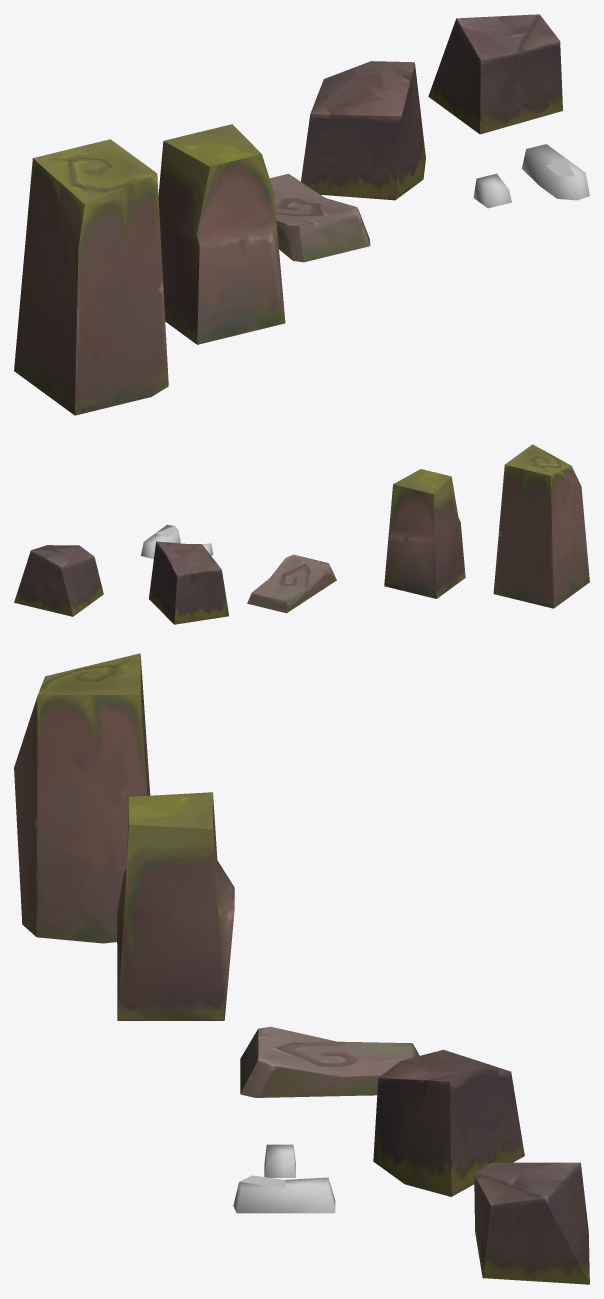
File: TYJ_ShiTouM_001.fbx
The picture shows the model from 3 angles, top to bottom: view 1: azimuth 30°, elevation 25°; view 2: azimuth 150°, elevation 25°; view 3: azimuth 270°, elevation 25°; orthographic projection. The views are drawn at different scales.
Visible parts, largest first — view 1: TYJ_ShiTouM_10, TYJ_ShiTouM_09, TYJ_ShiTouM_07, TYJ_ShiTouM_06, TYJ_ShiTouM_08, TYJ_ShiTouM_04, TYJ_ShiTouM_03; view 2: TYJ_ShiTouM_10, TYJ_ShiTouM_09, TYJ_ShiTouM_07, TYJ_ShiTouM_06, TYJ_ShiTouM_08, TYJ_ShiTouM_04; view 3: TYJ_ShiTouM_10, TYJ_ShiTouM_09, TYJ_ShiTouM_07, TYJ_ShiTouM_06, TYJ_ShiTouM_08, TYJ_ShiTouM_04, TYJ_ShiTouM_03.
Part boxes in pixels (x1,y1,x2,y2): TYJ_ShiTouM_10: [14, 139, 168, 415]; TYJ_ShiTouM_09: [158, 124, 285, 344]; TYJ_ShiTouM_07: [301, 61, 425, 200]; TYJ_ShiTouM_06: [428, 14, 562, 134]; TYJ_ShiTouM_08: [269, 173, 370, 262]; TYJ_ShiTouM_04: [522, 144, 589, 200]; TYJ_ShiTouM_03: [473, 173, 511, 208]; TYJ_ShiTouM_10: [493, 444, 589, 608]; TYJ_ShiTouM_09: [384, 469, 465, 598]; TYJ_ShiTouM_07: [149, 541, 228, 624]; TYJ_ShiTouM_06: [14, 545, 103, 616]; TYJ_ShiTouM_08: [247, 554, 336, 613]; TYJ_ShiTouM_04: [141, 524, 180, 558]; TYJ_ShiTouM_10: [14, 653, 150, 943]; TYJ_ShiTouM_09: [117, 792, 234, 1020]; TYJ_ShiTouM_07: [373, 1049, 524, 1196]; TYJ_ShiTouM_06: [474, 1162, 589, 1284]; TYJ_ShiTouM_08: [240, 1026, 419, 1097]; TYJ_ShiTouM_04: [233, 1175, 335, 1213]; TYJ_ShiTouM_03: [264, 1144, 295, 1177].
Bounding box in the file's own units: 1328 × 418 × 849.
